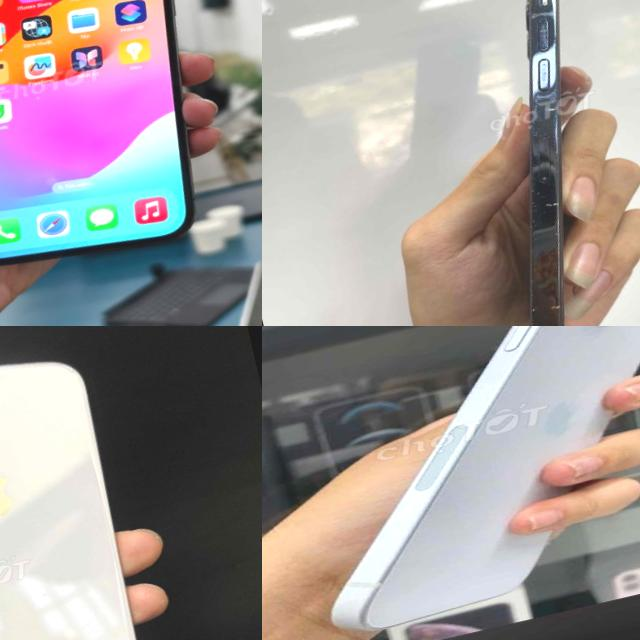scratch: (492, 155, 593, 326)
